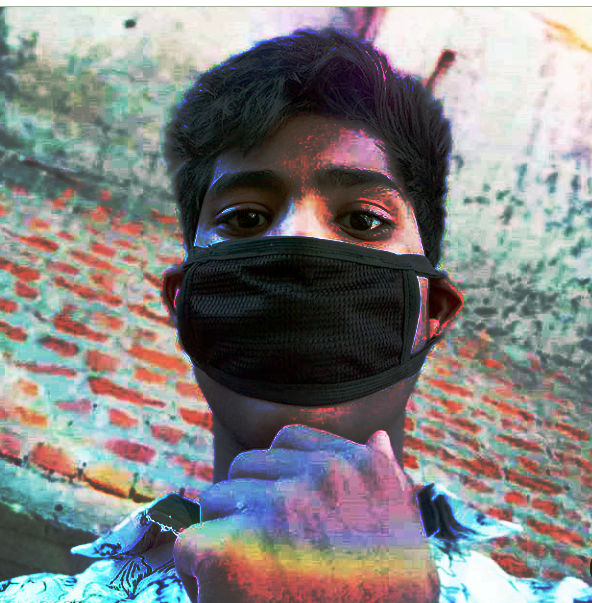mask_weared_incorrect: (161, 34, 458, 457)
